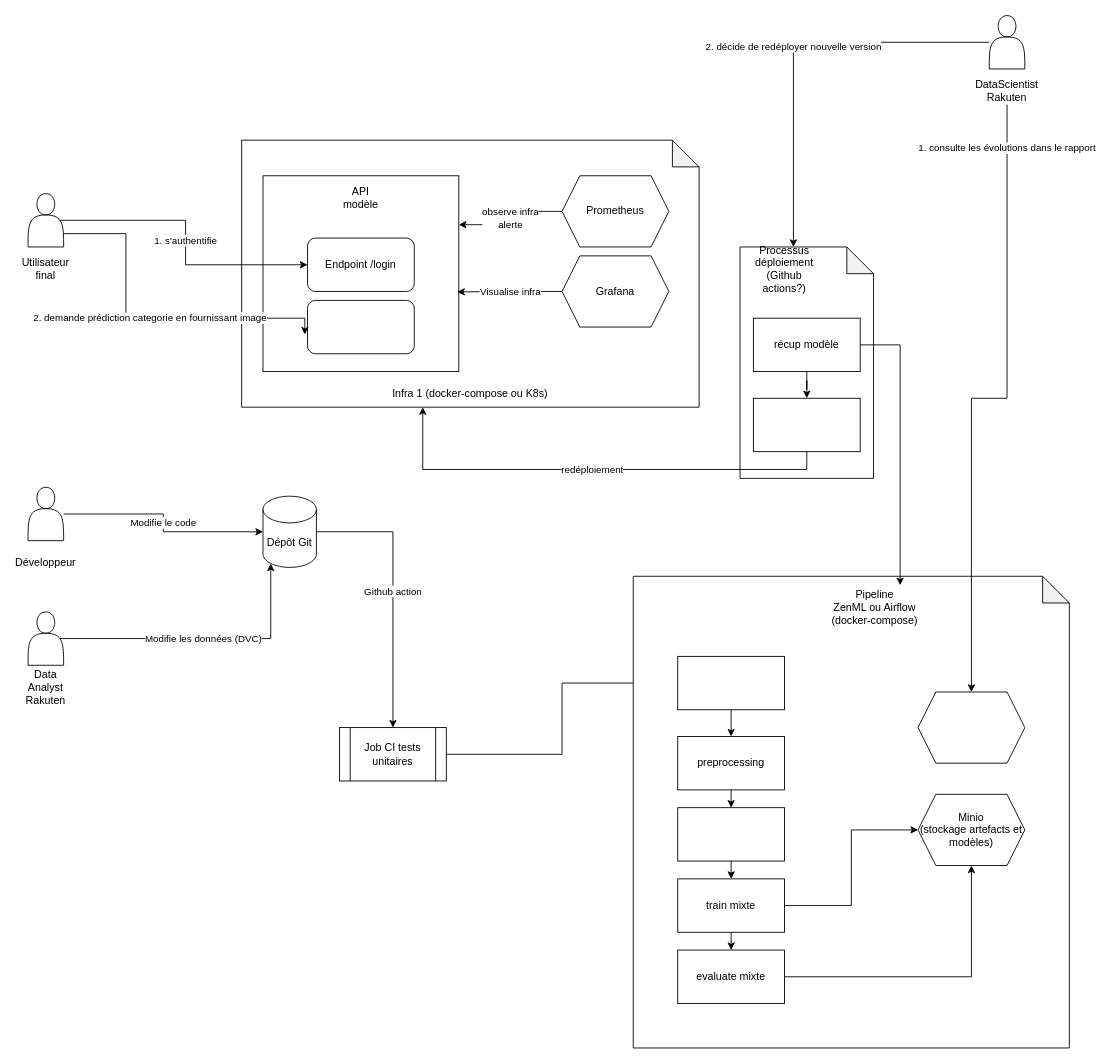
Image size: 1111x1064. Some labels were removed from this diagram. Here are the shapes that lost their labels. From the top down, the box of each, then its label:
(307, 299, 414, 354): Endpoint /predict
(752, 397, 860, 452): Reconstruction Docker API (avec nouveau code, nouveau modèle)
(677, 655, 785, 710): récup données
(917, 691, 1025, 763): Evidently?
(677, 807, 785, 861): predict text et image
